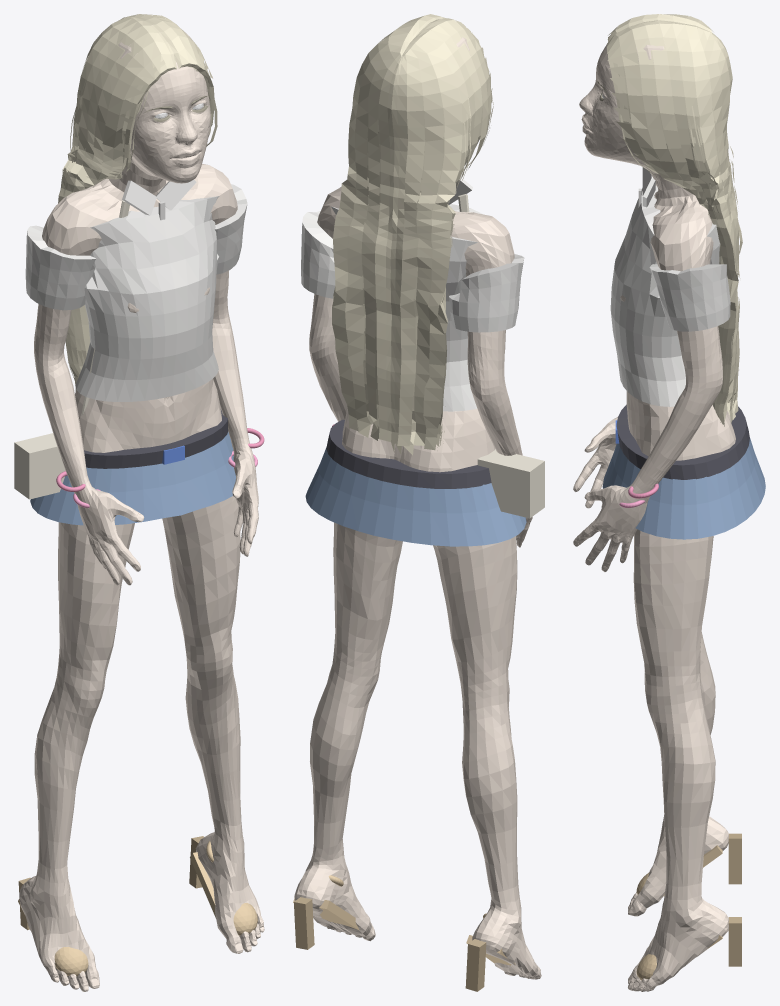
File: kim-petras.glb
3 renders of one model, left to right at view 1: azimuth 30°, elevation 25°; view 2: azimuth 150°, elevation 25°; view 3: azimuth 270°, elevation 25°, orthographic.
Parts seen in each view (by area): view 1: body, top, hair_mh, skirt, sleeve_R, bag, belt_1.75, sleeve_L, toe_cap_R, collar_-1, collar_1, toe_cap_L; view 2: body, hair_mh, skirt, sleeve_R, belt_1.75, top, bag, sleeve_L, heel_block_L, heel_block_R, sole_L; view 3: body, hair_mh, top, skirt, sleeve_L, belt_1.75, heel_block_R, heel_block_L.
Part boxes in pixels (left/top/right/bottom): body: left=19, top=24, right=264, bottom=991; top: left=53, top=196, right=219, bottom=401; hair_mh: left=58, top=14, right=217, bottom=391; skirt: left=30, top=432, right=235, bottom=525; sleeve_R: left=25, top=225, right=96, bottom=310; bag: left=14, top=433, right=65, bottom=499; belt_1.75: left=84, top=409, right=228, bottom=468; sleeve_L: left=215, top=184, right=247, bottom=274; toe_cap_R: left=54, top=946, right=88, bottom=976; collar_-1: left=122, top=180, right=156, bottom=215; collar_1: left=156, top=179, right=196, bottom=210; toe_cap_L: left=233, top=903, right=257, bottom=935; body: left=294, top=35, right=541, bottom=979; hair_mh: left=332, top=14, right=493, bottom=455; skirt: left=305, top=447, right=526, bottom=546; sleeve_R: left=449, top=254, right=524, bottom=332; belt_1.75: left=326, top=419, right=491, bottom=488; top: left=328, top=203, right=482, bottom=411; bag: left=477, top=449, right=544, bottom=518; sleeve_L: left=301, top=210, right=335, bottom=298; heel_block_L: left=294, top=897, right=314, bottom=949; heel_block_R: left=465, top=939, right=486, bottom=991; sole_L: left=293, top=898, right=359, bottom=930; body: left=573, top=34, right=735, bottom=991; hair_mh: left=607, top=14, right=742, bottom=426; top: left=610, top=186, right=720, bottom=406; skirt: left=602, top=438, right=765, bottom=539; sleeve_L: left=649, top=264, right=730, bottom=331; belt_1.75: left=616, top=404, right=749, bottom=479; heel_block_R: left=728, top=833, right=741, bottom=884; heel_block_L: left=728, top=917, right=741, bottom=966.
Bounding box in the file's own units: 0.8776 × 3.46 × 0.6481.
